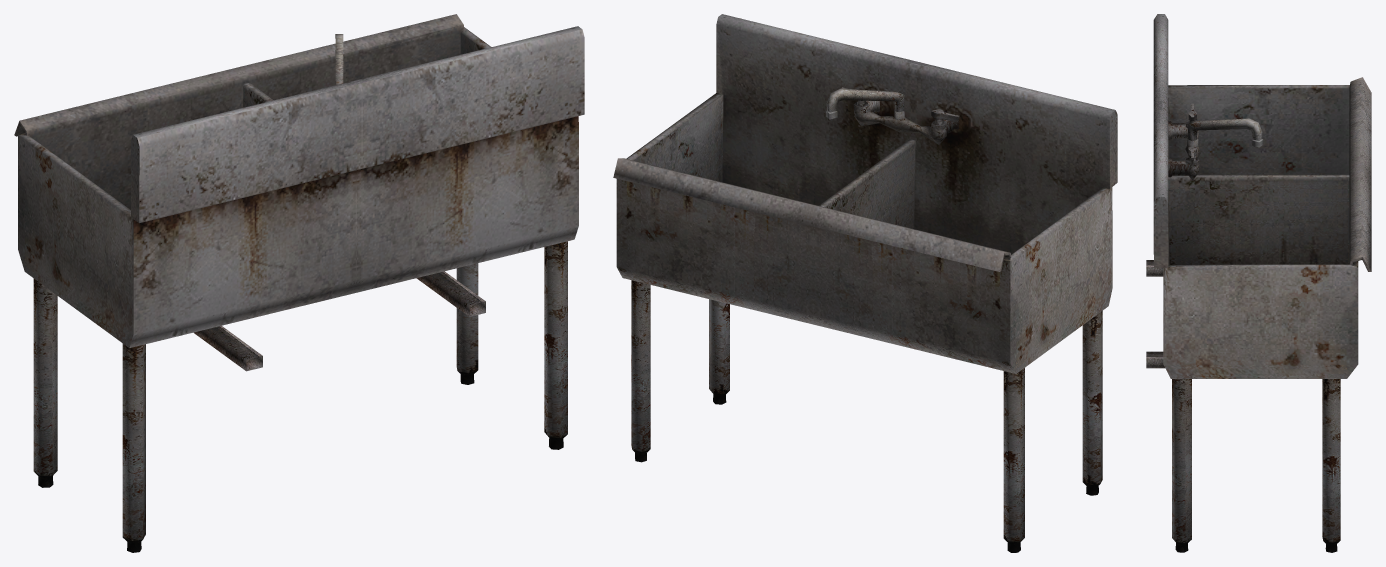
The model's file is Lab Sink.obj.
3 renders of one model, left to right at view 1: azimuth 30°, elevation 25°; view 2: azimuth 150°, elevation 25°; view 3: azimuth 270°, elevation 25°, orthographic. The views are drawn at different scales.
Visible parts, largest first — view 1: Lab_Wachbecken; view 2: Lab_Wachbecken; view 3: Lab_Wachbecken.
Part boxes in pixels (x1=…): Lab_Wachbecken: x1=14, y1=14, x2=584, y2=552; Lab_Wachbecken: x1=613, y1=14, x2=1117, y2=552; Lab_Wachbecken: x1=1146, y1=14, x2=1371, y2=552.
Size of the model in its own units: 99.88 by 91.18 by 51.92.
Materials: 1 (1 with a texture image).
